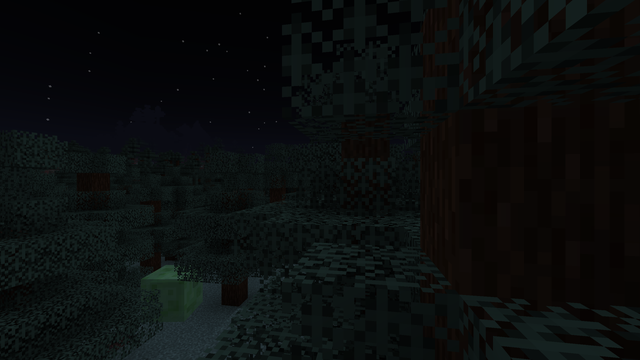slimes: (138, 262, 204, 324)
